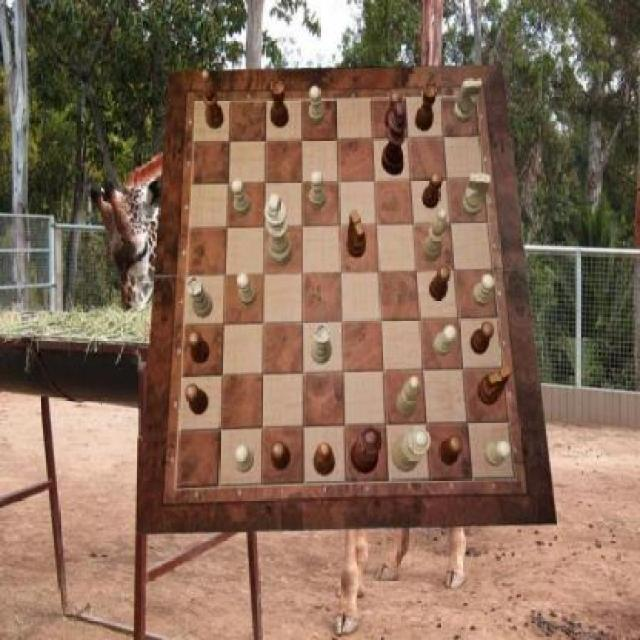bishop: (202, 71, 224, 129), (312, 442, 335, 476)
black-bishop: (383, 101, 409, 176)
black-king: (478, 366, 512, 406), (348, 211, 368, 258)
black-knight: (471, 322, 494, 356), (429, 265, 452, 299), (188, 330, 210, 364), (423, 171, 443, 208), (186, 384, 209, 416), (440, 436, 463, 466), (385, 91, 402, 129), (271, 443, 291, 471)
black-pawn: (351, 426, 382, 474)
black-queen: (416, 83, 438, 132), (270, 80, 288, 128)
black-rook: (423, 209, 448, 262), (397, 375, 420, 418)
white-bishop: (266, 194, 294, 268)
white-king: (454, 78, 483, 124), (462, 174, 491, 218)
white-knight: (472, 274, 495, 308), (231, 179, 251, 216), (434, 325, 457, 357), (484, 441, 512, 467), (237, 274, 257, 308), (309, 171, 326, 209), (310, 86, 326, 126), (236, 446, 254, 474)
white-pawn: (392, 426, 432, 472)
white-queen: (188, 275, 214, 318), (310, 324, 332, 364)
